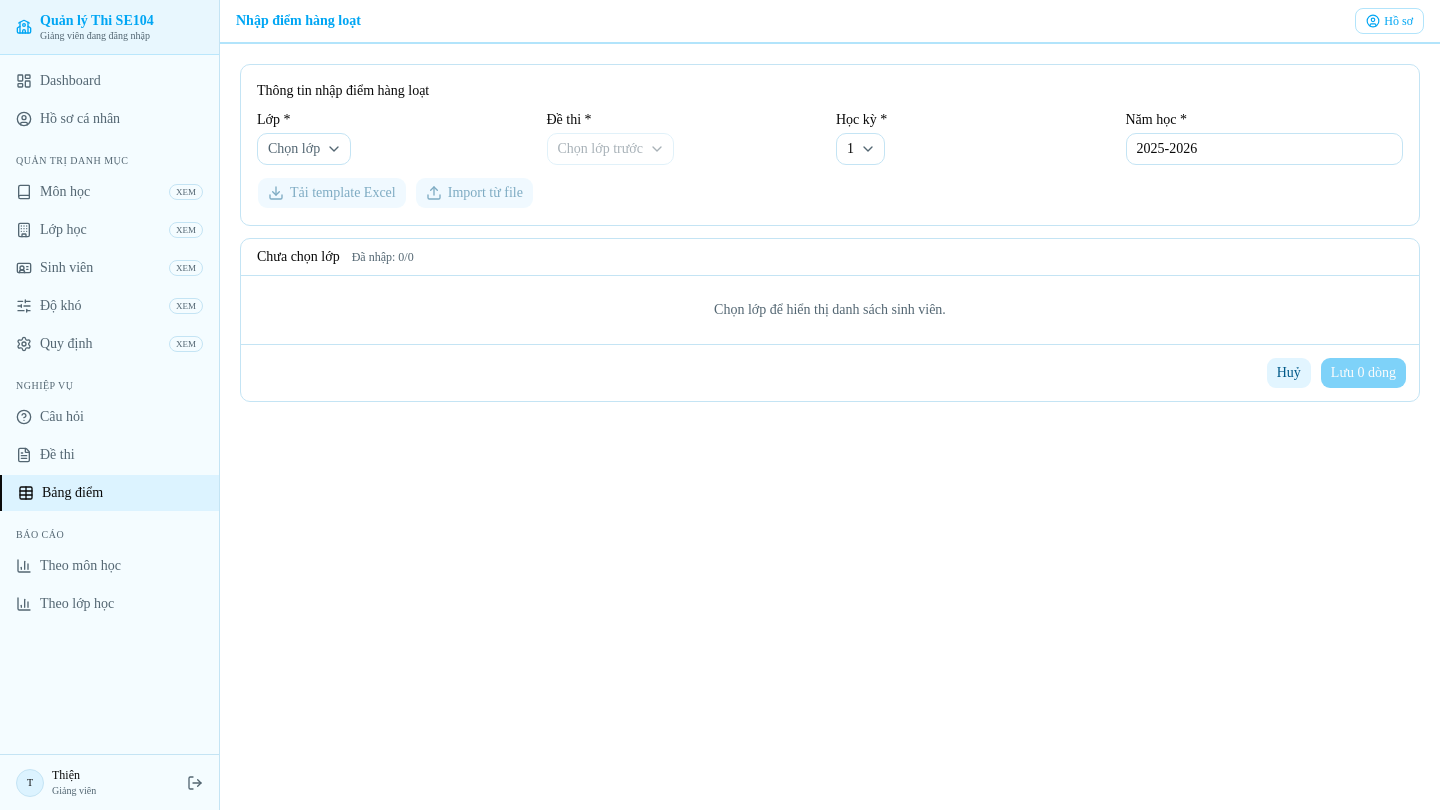
Scenario: BatchGradesPage › highlights invalid score and reports invalid count in summary
Step 1. Click the dropdown named "lớp *" → {"x": 304, "y": 149}, box [257,133,351,165]
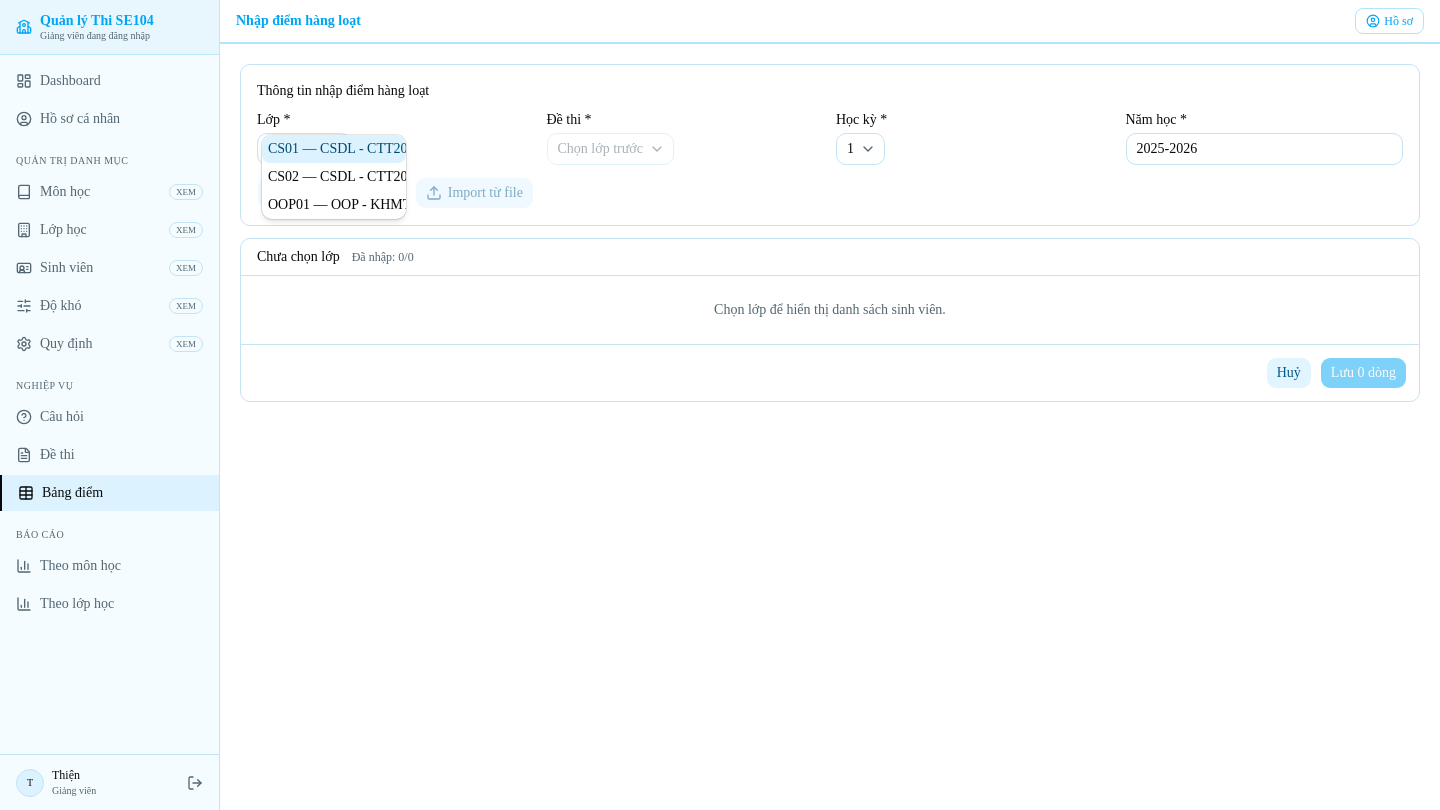
Step 2. Click the option "CS01 — CSDL - CTT2022" → {"x": 334, "y": 149}, box [262,135,406,163]
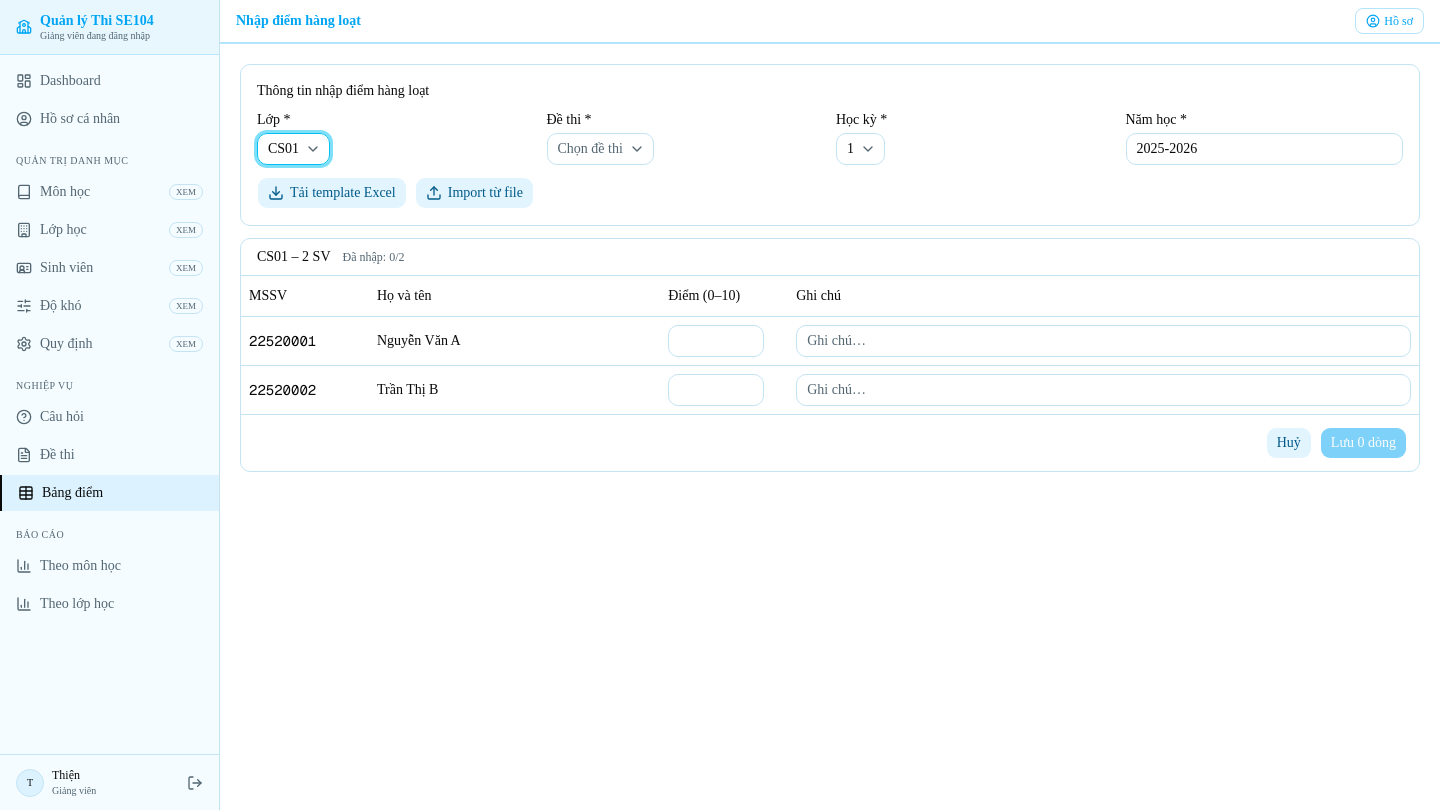
Step 3. Type "15" into the number field named "Điểm 22520001" → {"x": 716, "y": 340}, box [668,324,764,356]
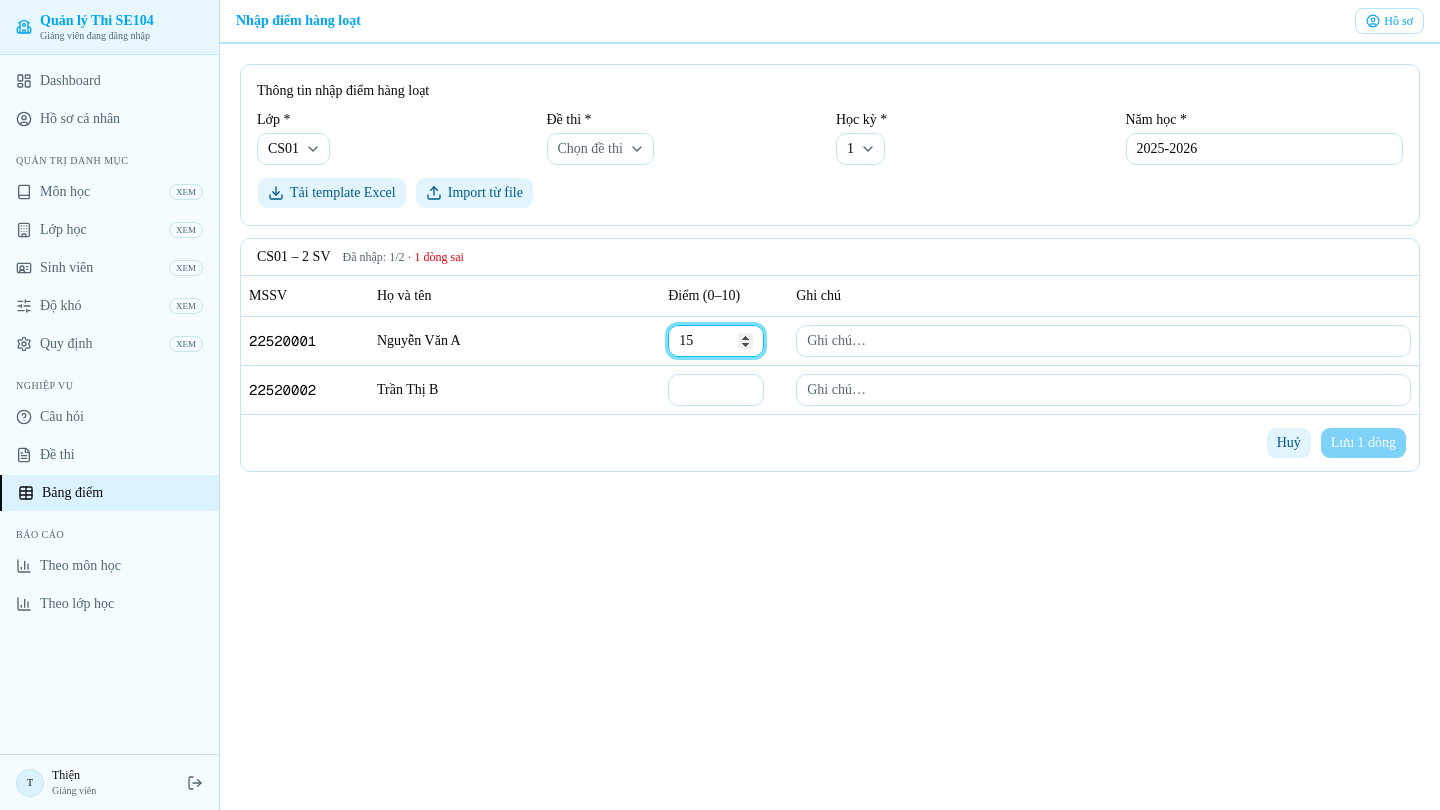
Check: the element with test id "batch-summary" shows "1 dòng sai", box [342,249,464,265]
